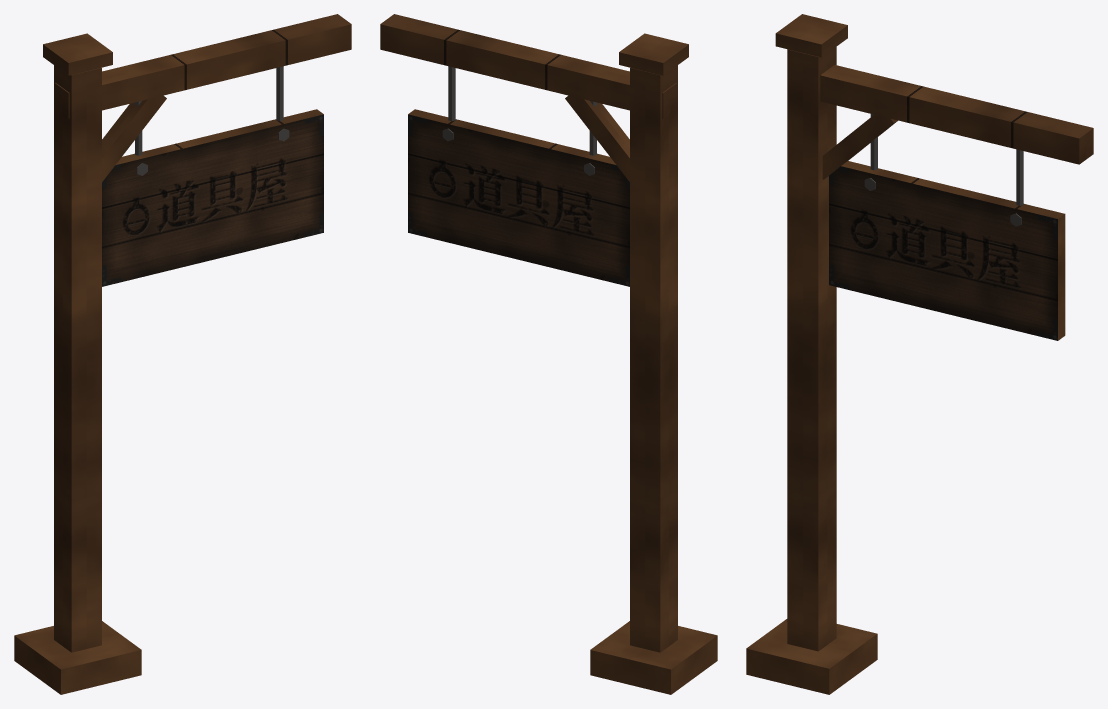
File: ShopSign.gltf
3 renders of one model, left to right at view 1: azimuth 30°, elevation 25°; view 2: azimuth 150°, elevation 25°; view 3: azimuth 330°, elevation 25°, orthographic. The views are drawn at different scales.
Visible parts, largest first — view 1: ShopSign; view 2: ShopSign; view 3: ShopSign.
Boxes of the visible parts, <box> form: ShopSign: <box>14,14,351,694</box>; ShopSign: <box>380,14,717,694</box>; ShopSign: <box>746,14,1093,694</box>.
Size of the model in its own units: 1.52 by 2.93 by 0.4.
Materials: 3 (2 with a texture image).
